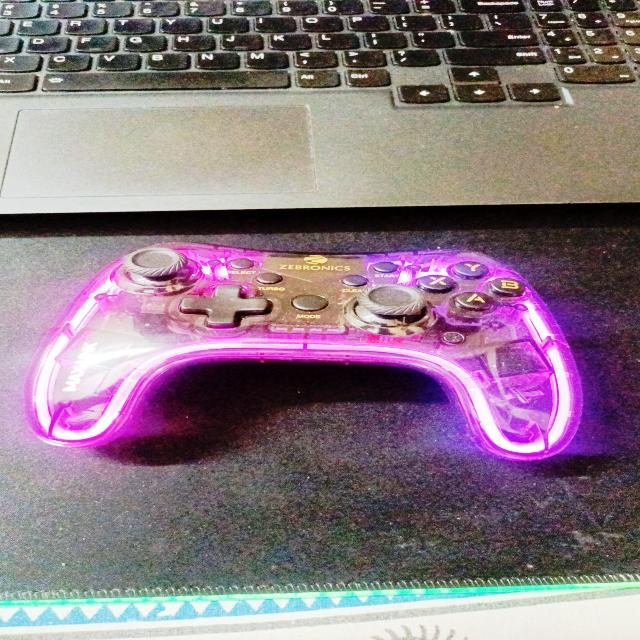gamepad: (21, 241, 584, 461)
